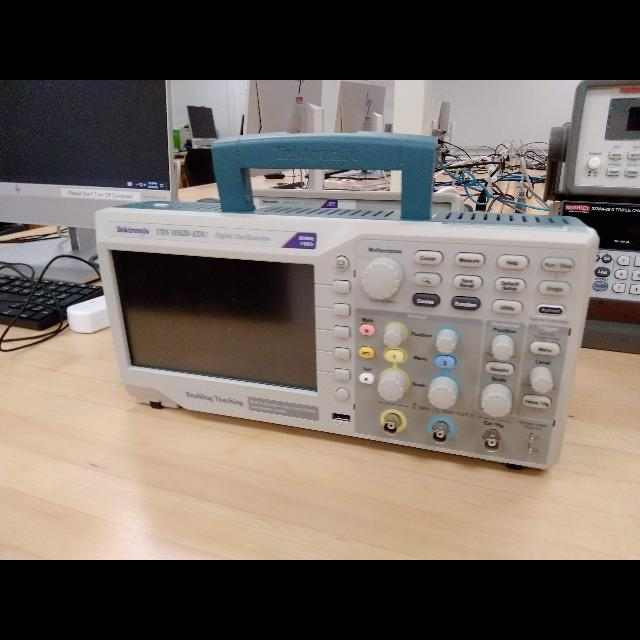Digital-Oscilloscope: (93, 206, 594, 472)
